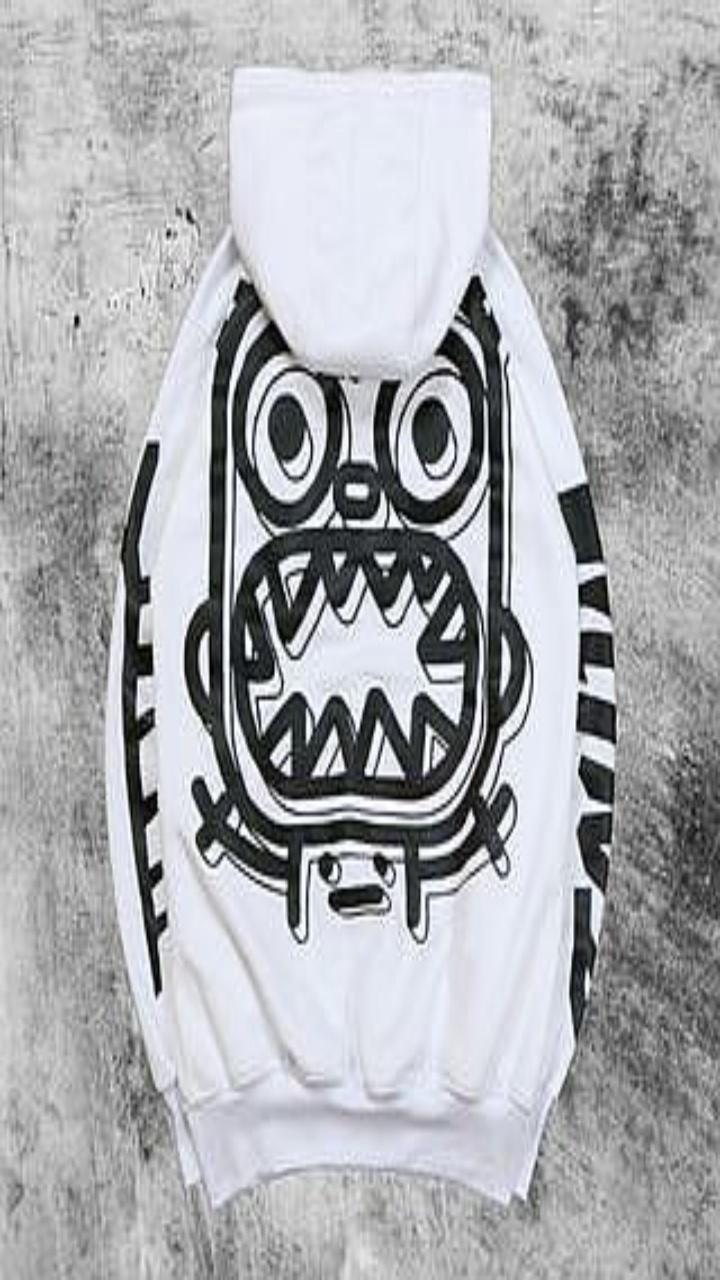Hoodie: (106, 67, 614, 1204)
